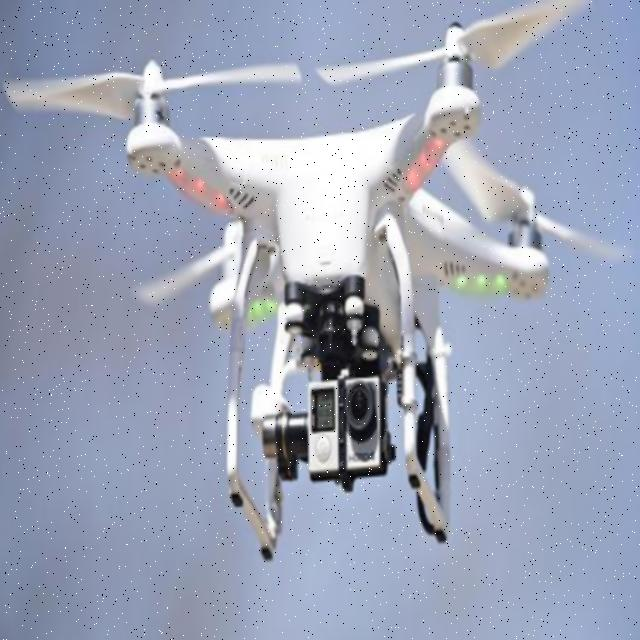UAV: (122, 17, 554, 567)
